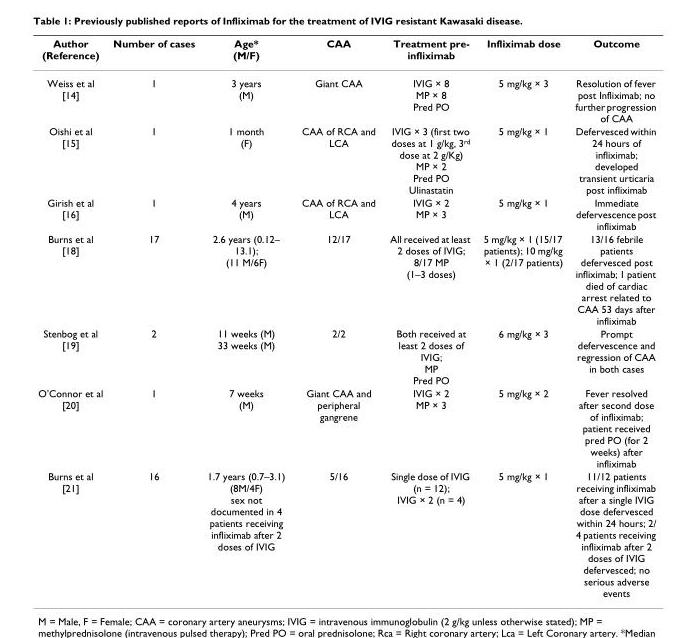table: (37, 36, 655, 598)
table column: (382, 36, 476, 598), (107, 36, 200, 598), (200, 36, 292, 598), (476, 36, 568, 598), (292, 36, 382, 598), (568, 36, 655, 598), (37, 36, 107, 598)
table column header: (37, 36, 655, 68)
table row: (37, 469, 655, 598), (37, 232, 655, 326), (37, 386, 655, 469), (37, 124, 655, 195), (37, 326, 655, 386), (37, 68, 655, 124), (37, 195, 655, 232), (37, 36, 655, 68)
